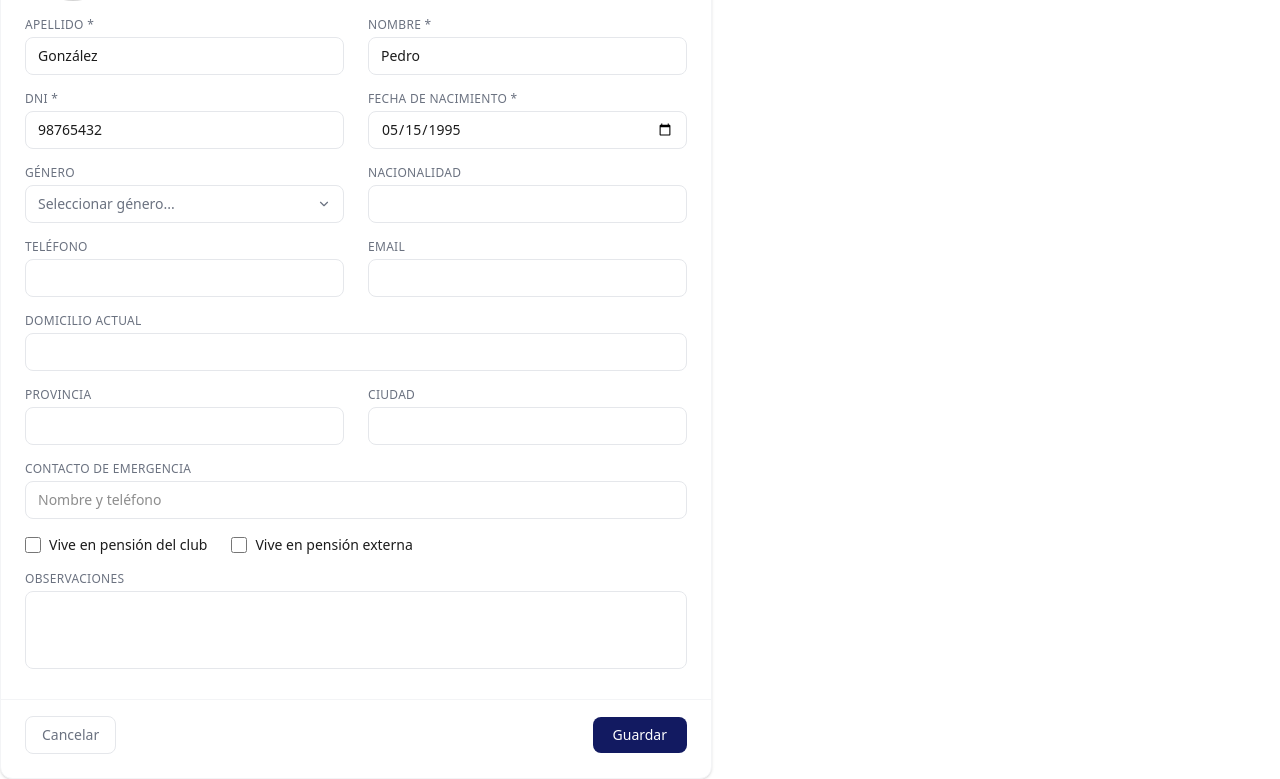
Scenario: DeportistaForm — limpieza de la foto subida si falla el guardado › si falla el update sin cambios de foto no descarta nada
The width and height of the screenshot is (1280, 779).
(page scrolled)
Click the button "Guardar": [640, 735] box [593, 717, 687, 753]
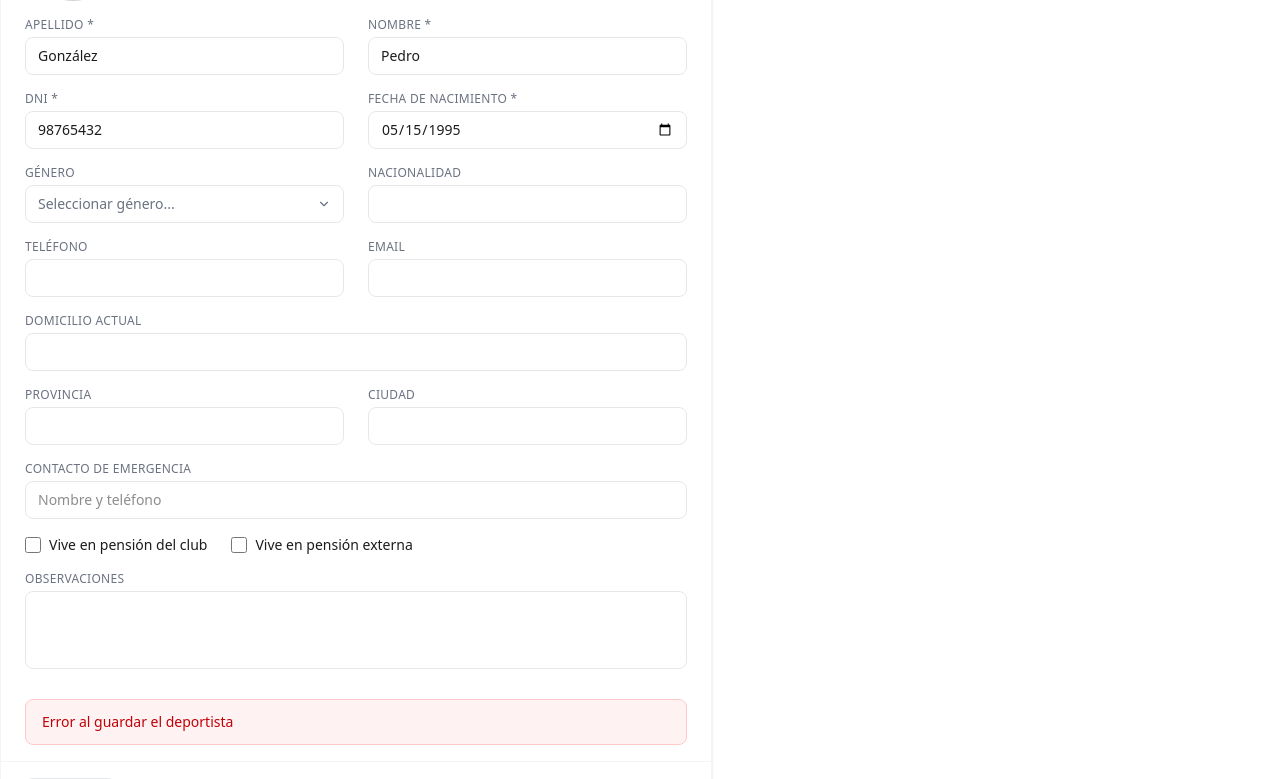
Check: the text "Error al guardar el deportista" is shown, box [25, 699, 687, 745]
